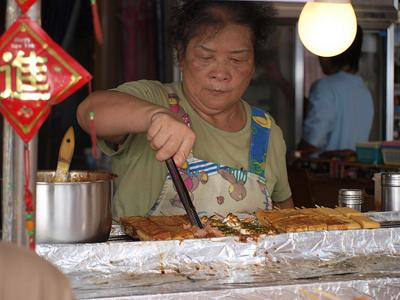person: (77, 7, 297, 224)
